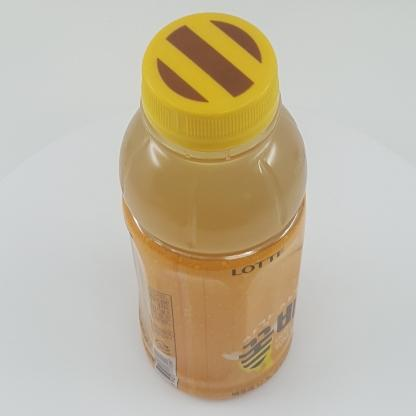--------380ML: (119, 12, 307, 399)
